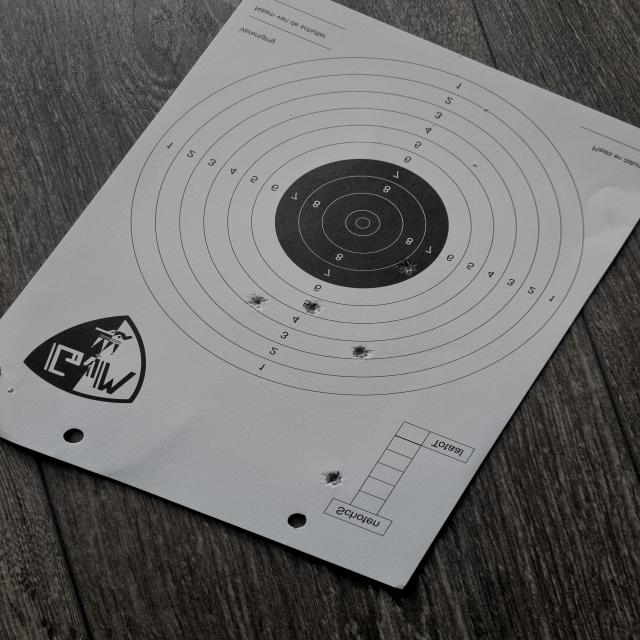0: (320, 469, 343, 486)
3: (350, 345, 374, 359)
4: (246, 293, 268, 310)
5: (301, 299, 323, 314)
7: (395, 258, 418, 276)
Target: (128, 56, 583, 395)
black_contour: (272, 158, 450, 288)
